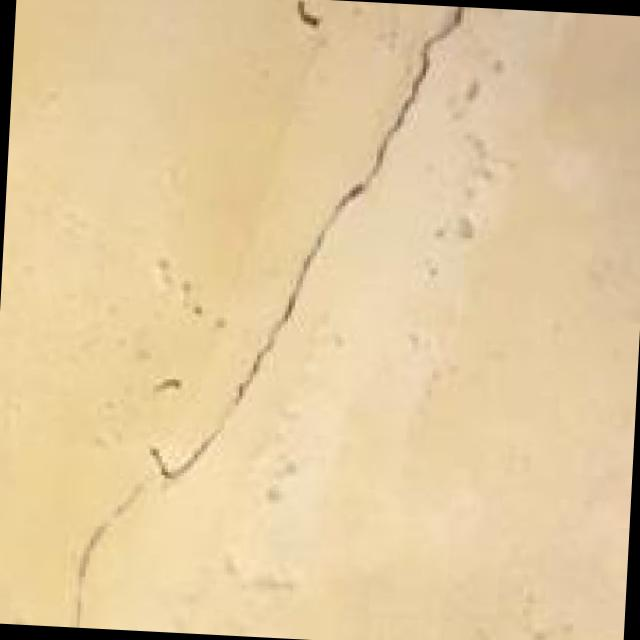crack: (58, 0, 487, 522)
